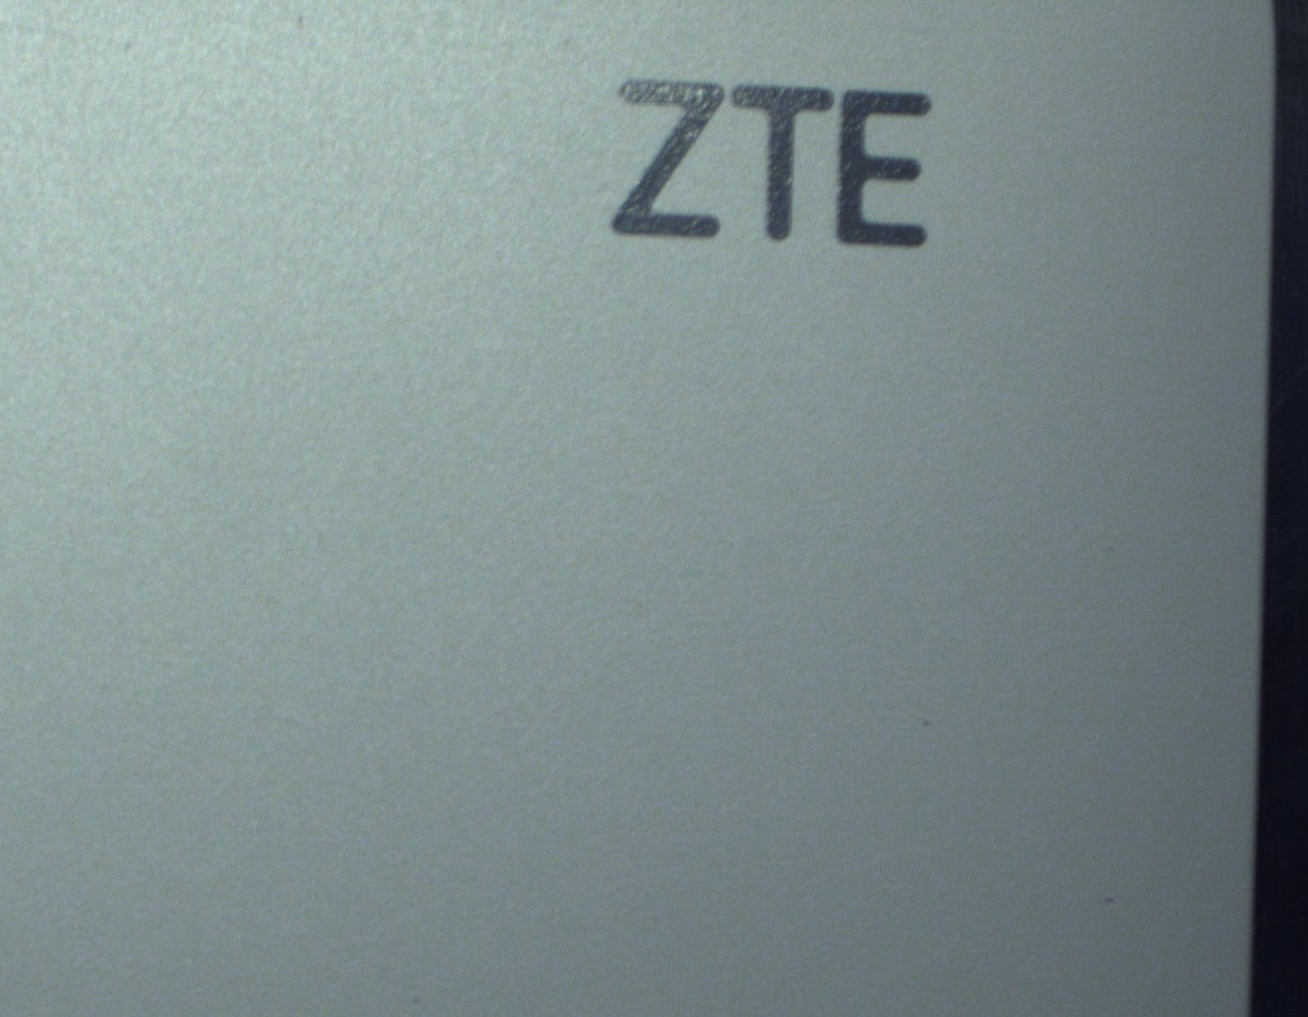AN_ZTE: (567, 59, 940, 261)
